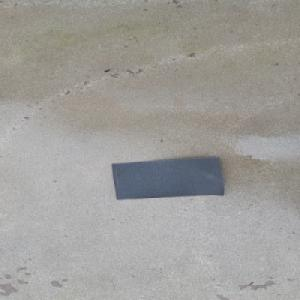PaintChip: (109, 156, 225, 200)
